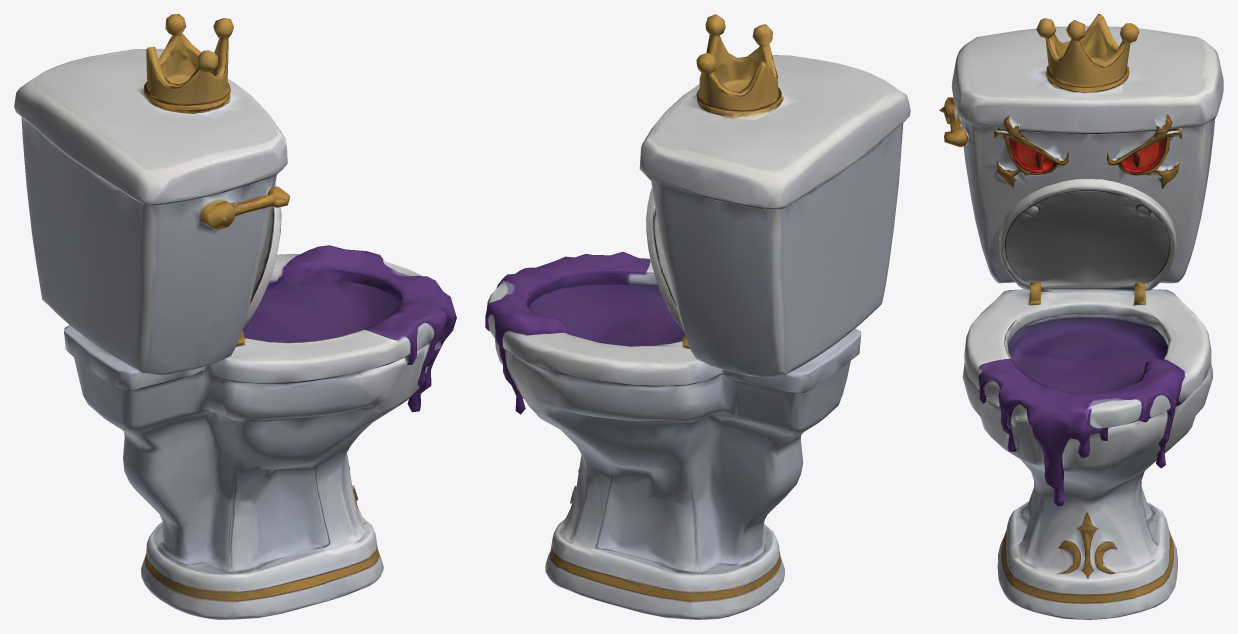
Rendered from king.glb.
3 views of the same model, side by side, from view 1: azimuth 30°, elevation 25°; view 2: azimuth 150°, elevation 25°; view 3: azimuth 270°, elevation 25° (orthographic). The views are drawn at different scales.
Parts seen in each view (by area): view 1: tripo_node_e5060c06-e522-44ca-8674-1bcfc9608c25; view 2: tripo_node_e5060c06-e522-44ca-8674-1bcfc9608c25; view 3: tripo_node_e5060c06-e522-44ca-8674-1bcfc9608c25.
Boxes of the visible parts, box(x1,y1,x2,y2) form: tripo_node_e5060c06-e522-44ca-8674-1bcfc9608c25: box(14, 14, 456, 619); tripo_node_e5060c06-e522-44ca-8674-1bcfc9608c25: box(485, 14, 910, 619); tripo_node_e5060c06-e522-44ca-8674-1bcfc9608c25: box(939, 14, 1223, 619).
Bounding box in the file's own units: 0.6689 × 1 × 0.4833.
1 material, 1 textured.
